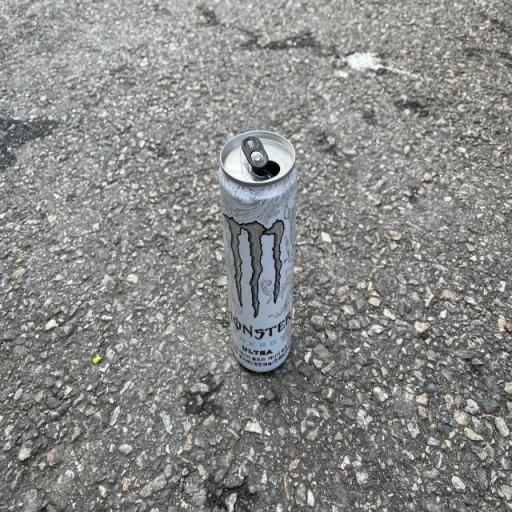metal: (192, 120, 328, 410)
